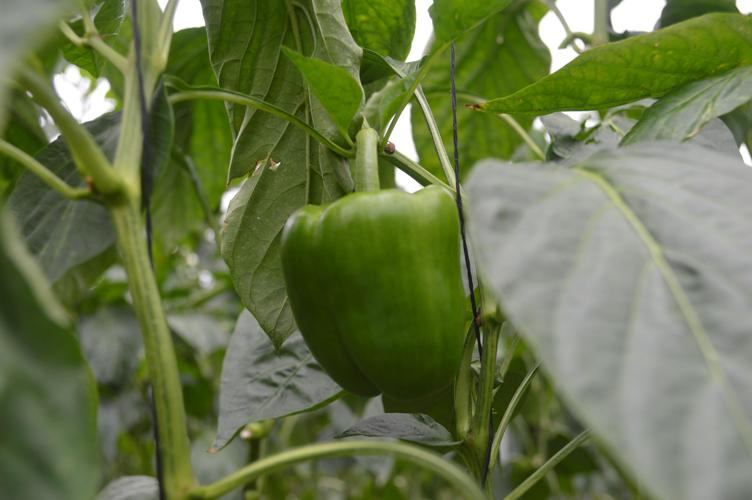BellPepper: (268, 176, 484, 411)
